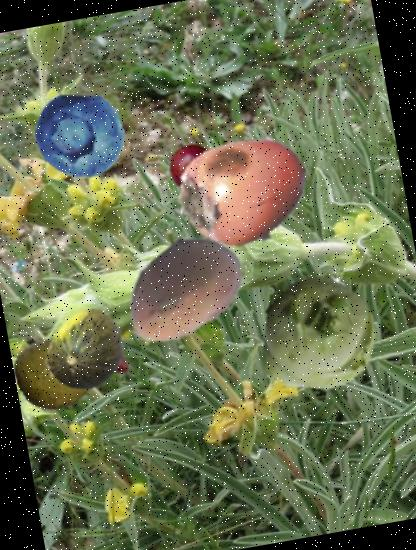Guava: (9, 324, 105, 420)
Hazelnut: (105, 214, 260, 369)
Huckleberry: (28, 84, 132, 188)
Kaki: (160, 113, 322, 274)
Kohlrabi: (241, 265, 390, 414)
Melon: (38, 302, 136, 398)
Pomegranate: (166, 138, 226, 198)
Salak: (65, 310, 144, 388)
